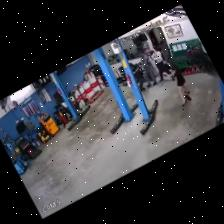person: (164, 64, 190, 105), (151, 48, 170, 81), (142, 49, 156, 87), (130, 63, 146, 91)
